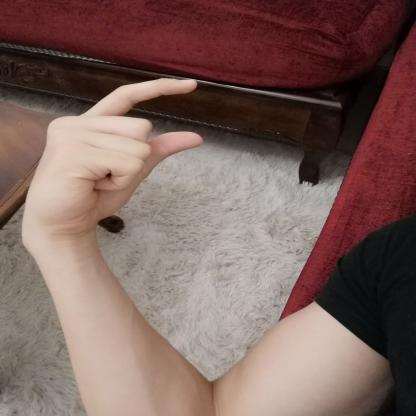DELL: (14, 70, 219, 250)
